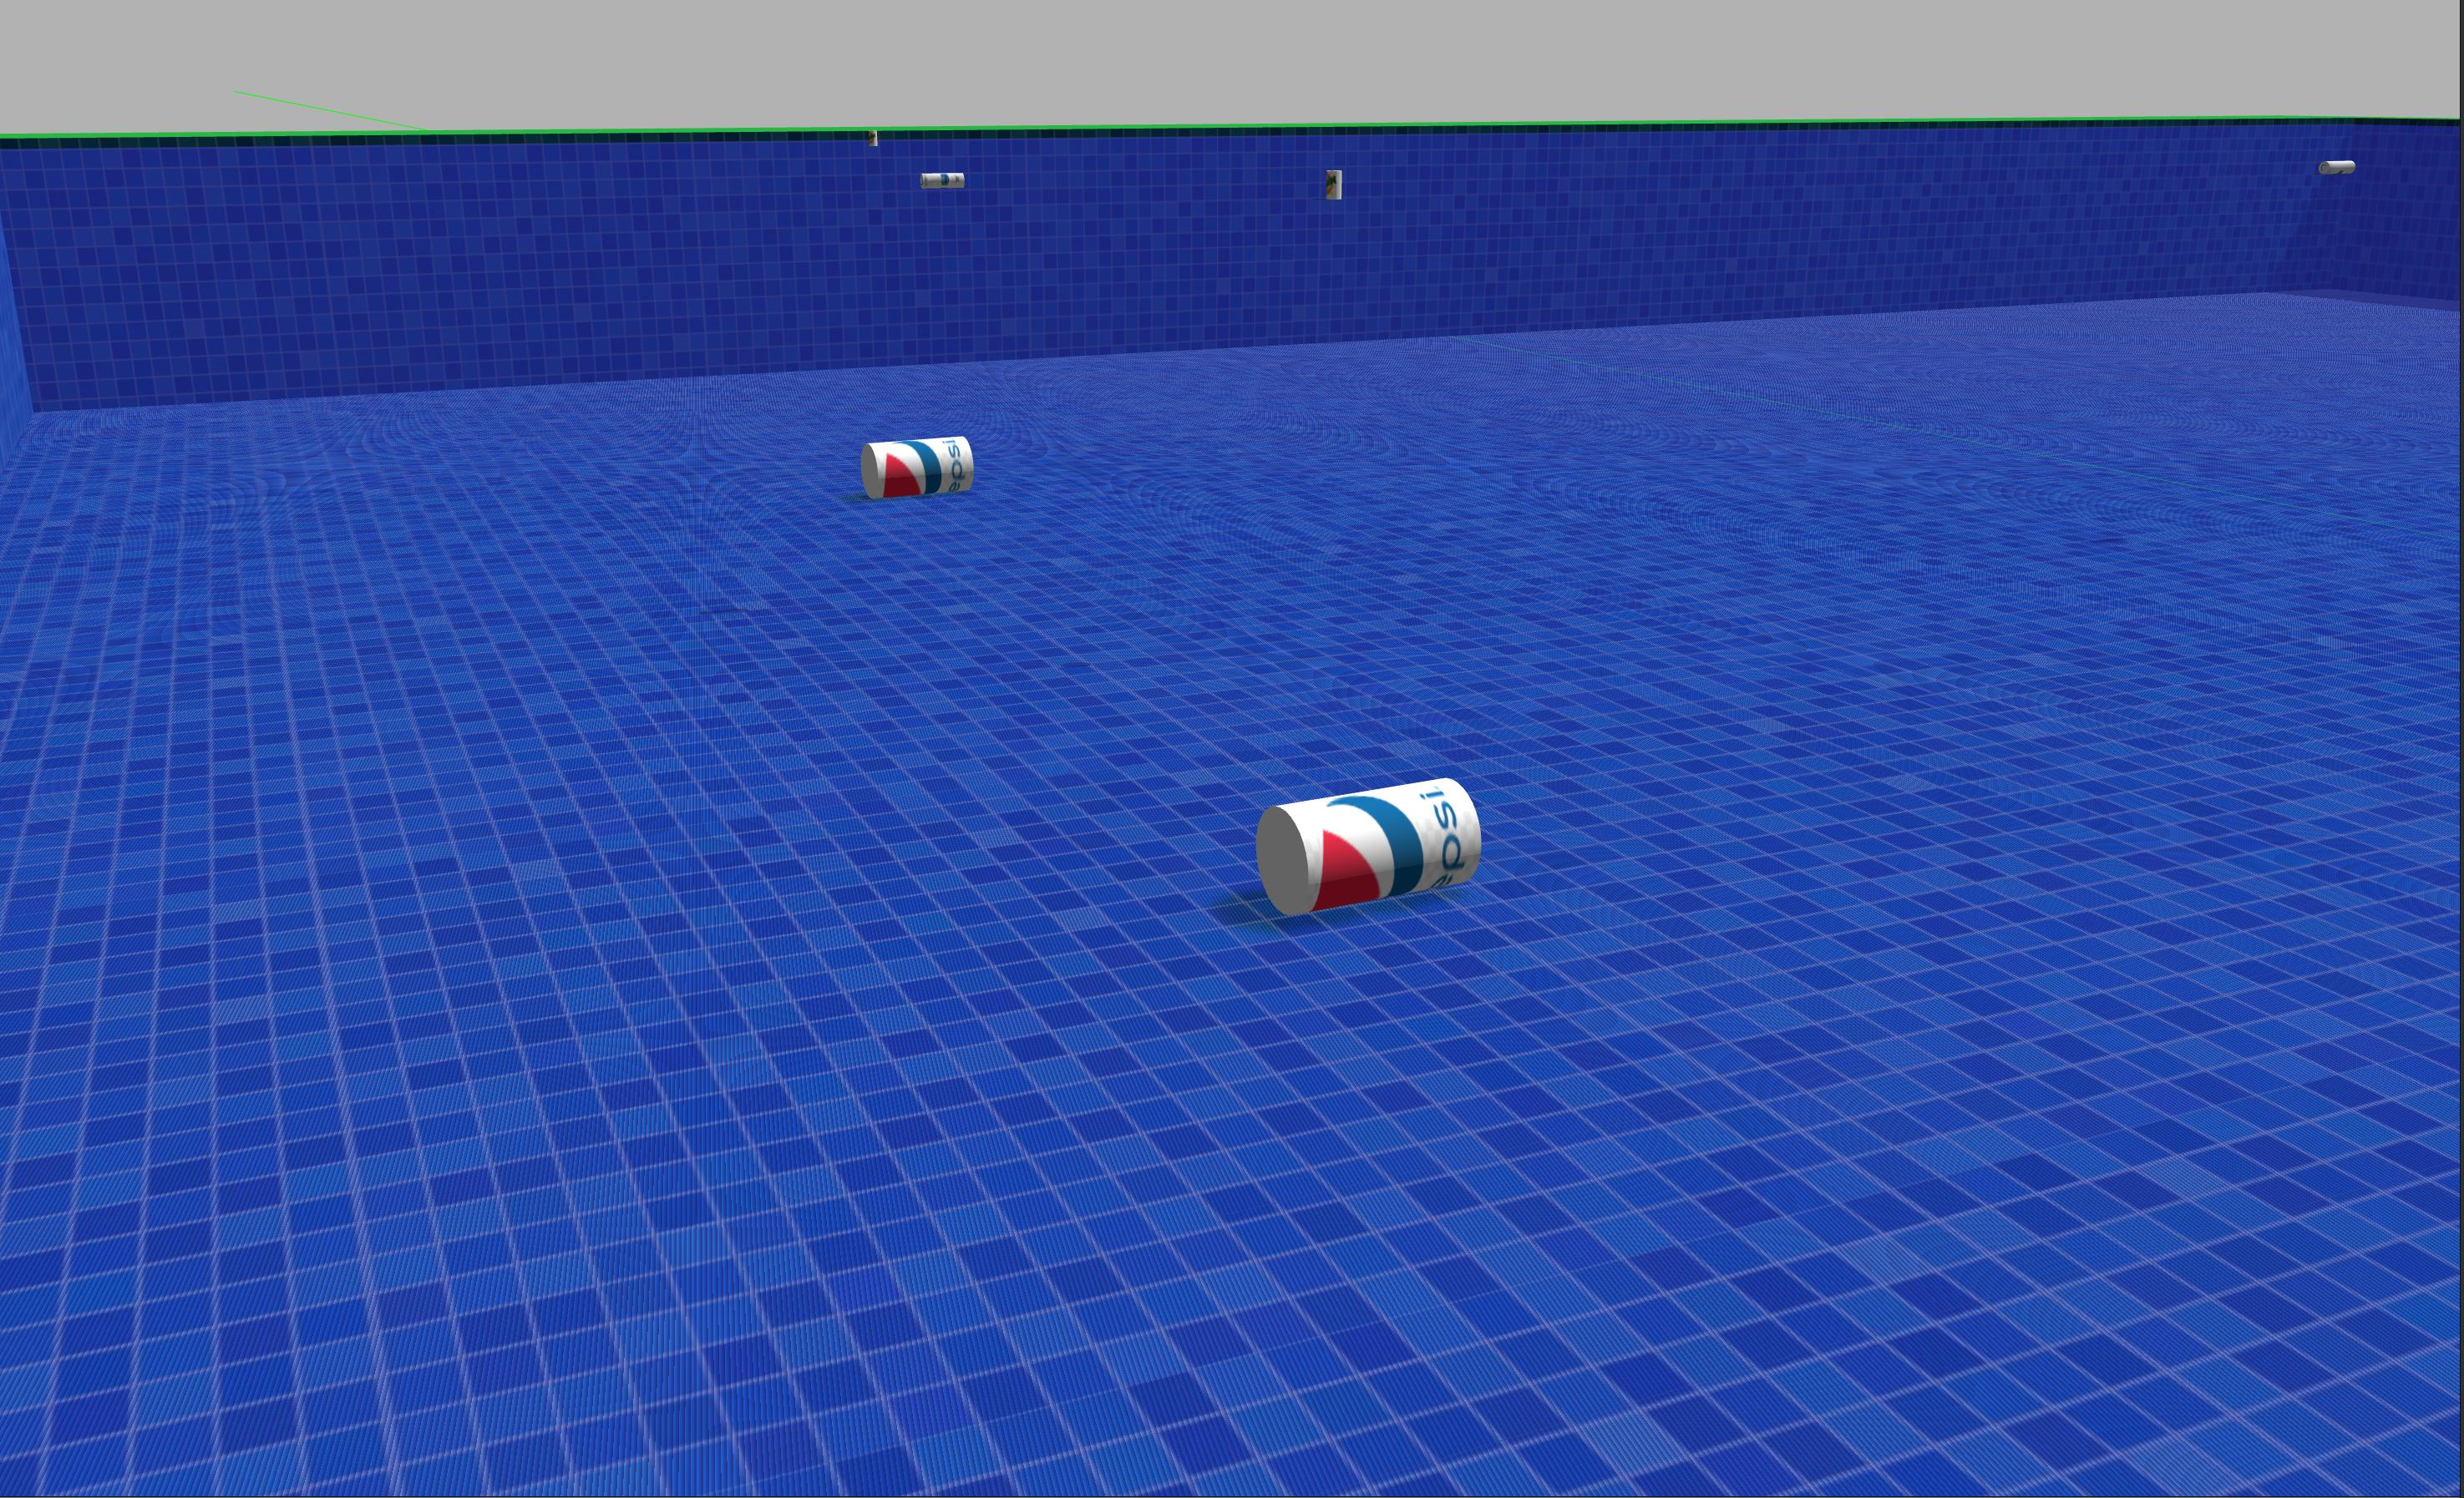Can: (1232, 750, 1494, 922), (832, 424, 1005, 503)
